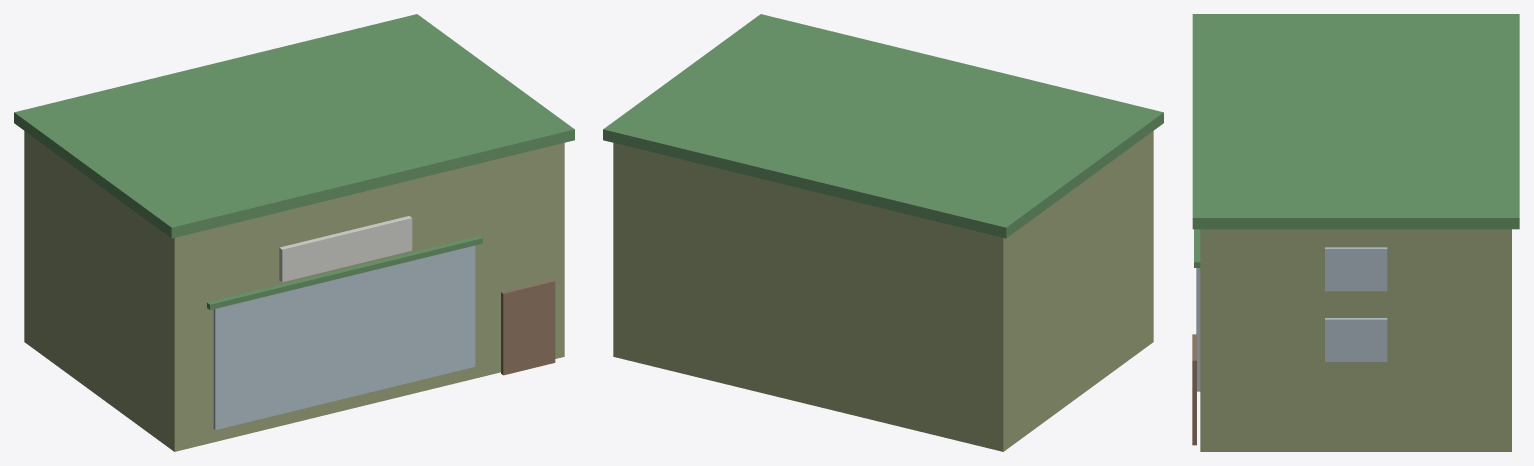
Rendered from building-home-goods.glb.
3 renders of one model, left to right at view 1: azimuth 30°, elevation 25°; view 2: azimuth 150°, elevation 25°; view 3: azimuth 270°, elevation 25°, orthographic. The views are drawn at different scales.
Visible parts, largest first — view 1: building-home-goods_part_0, building-home-goods_part_1, building-home-goods_part_2, building-home-goods_part_11, building-home-goods_part_4, building-home-goods_part_3; view 2: building-home-goods_part_0, building-home-goods_part_1; view 3: building-home-goods_part_1, building-home-goods_part_0, building-home-goods_part_13, building-home-goods_part_12, building-home-goods_part_2, building-home-goods_part_4.
Part boxes in pixels (x1,y1,x2,y2): building-home-goods_part_0: (24,131,564,451); building-home-goods_part_1: (14,14,574,238); building-home-goods_part_2: (213,245,475,429); building-home-goods_part_11: (279,216,412,282); building-home-goods_part_4: (501,279,555,375); building-home-goods_part_3: (207,236,482,309); building-home-goods_part_0: (613,131,1153,451); building-home-goods_part_1: (603,14,1163,238); building-home-goods_part_1: (1192,14,1519,229); building-home-goods_part_0: (1200,229,1511,451); building-home-goods_part_13: (1325,247,1387,291); building-home-goods_part_12: (1325,318,1387,361); building-home-goods_part_2: (1196,268,1200,391); building-home-goods_part_4: (1192,334,1196,445).
Size of the model in its own units: 15.5 by 8.4 by 10.51.
